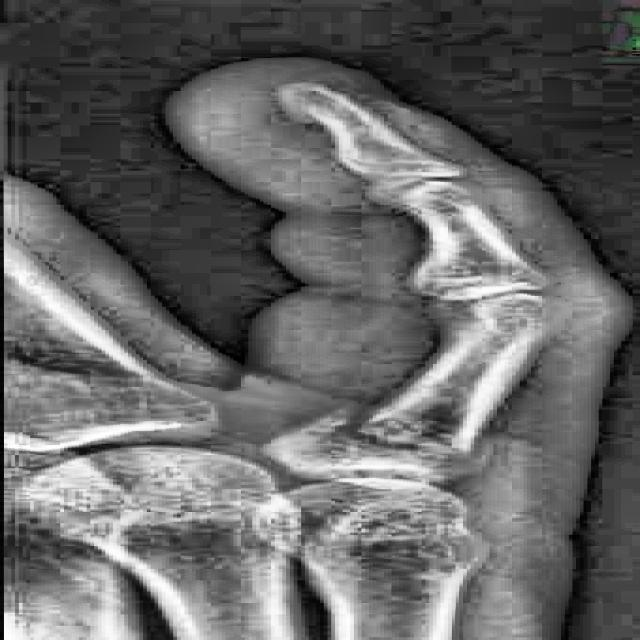fracture: (316, 412, 489, 462)
